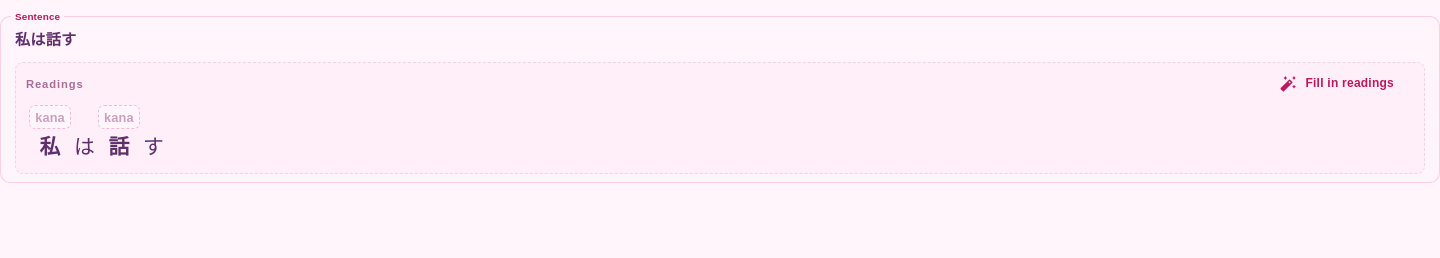
FuriganaEditor › shows the error alert when auto-fill rejects
Click the button "Fill in readings" at {"x": 1338, "y": 84}, box [1262,71,1414,96]
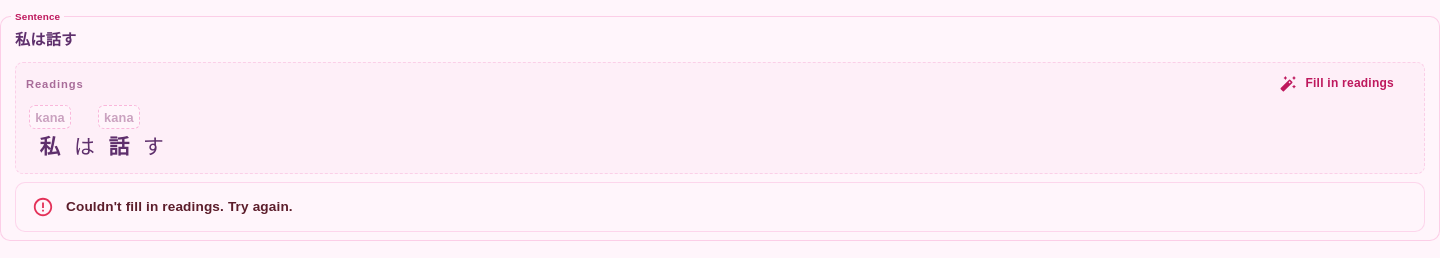
Expected: the text "Couldn't fill in readings. Try again." is shown, [66,198,293,214]
